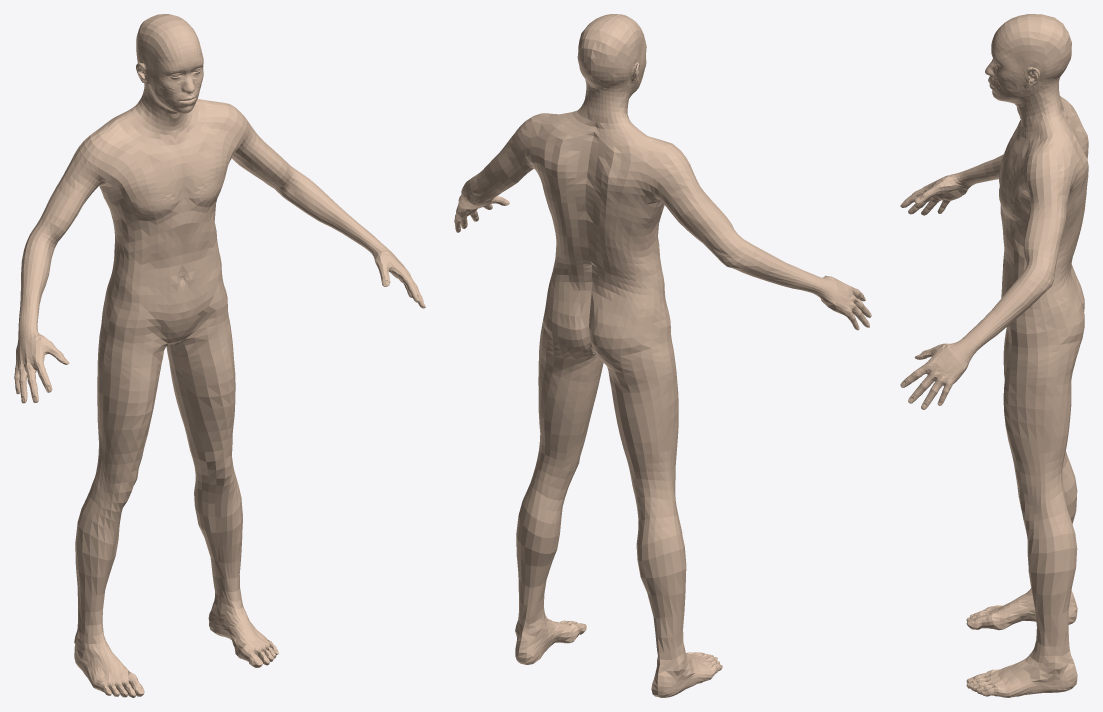
Rendered from male-adult-lean-high.glb.
3 renders of one model, left to right at view 1: azimuth 30°, elevation 25°; view 2: azimuth 150°, elevation 25°; view 3: azimuth 270°, elevation 25°, orthographic.
Parts seen in each view (by area): view 1: world; view 2: world; view 3: world.
Boxes of the visible parts, box(x1,y1,x2,y2) form: world: box(14, 14, 425, 697); world: box(454, 14, 871, 697); world: box(900, 14, 1088, 697).
Size of the model in its own units: 1.28 by 1.95 by 0.5187.
